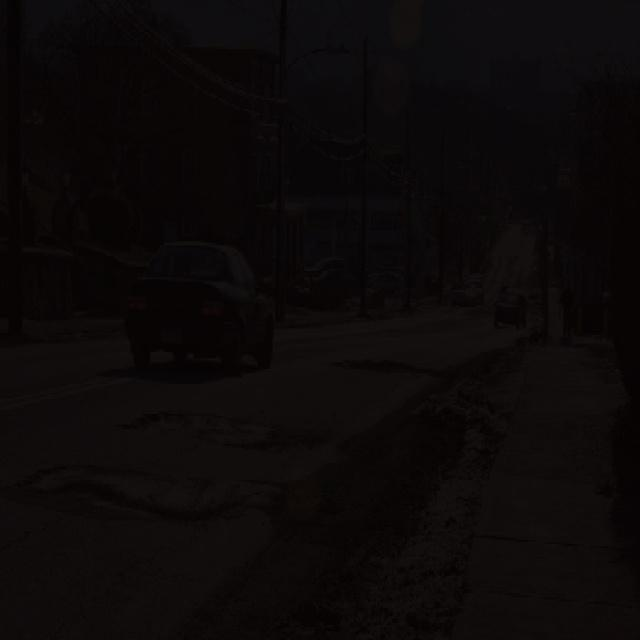Pothole: (259, 394, 483, 545), (23, 450, 253, 532), (123, 398, 333, 459), (332, 349, 452, 383)
